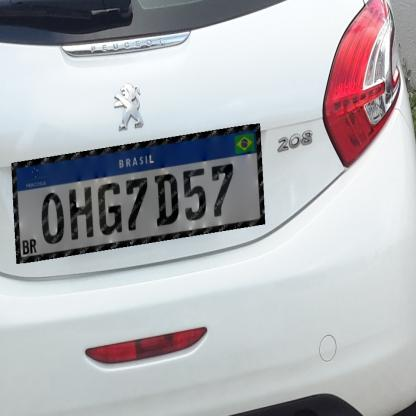PlacaM: (11, 123, 266, 264)
